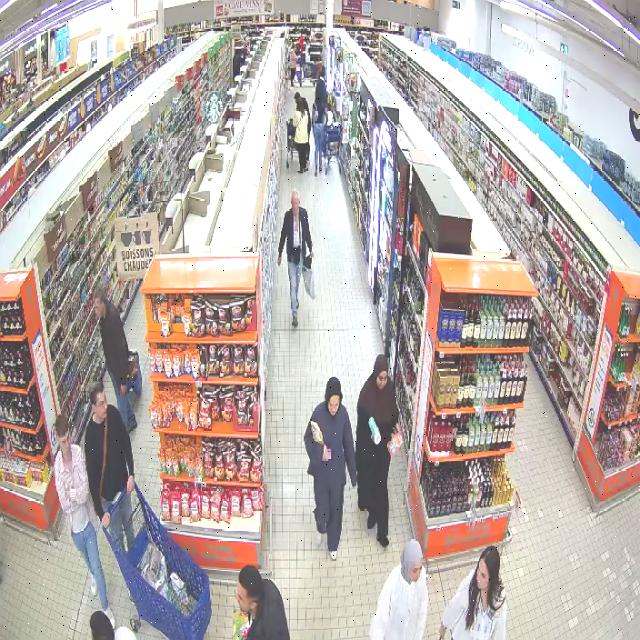article: (386, 434, 401, 457), (369, 416, 381, 444), (311, 421, 323, 444)
bags: (301, 255, 315, 299)
hands: (126, 476, 134, 494), (439, 622, 446, 639), (101, 513, 110, 526), (118, 385, 127, 395), (323, 446, 328, 461), (277, 257, 281, 265), (309, 251, 314, 257)
person: (54, 416, 115, 628), (304, 378, 356, 559), (356, 353, 398, 547), (85, 381, 134, 546), (94, 287, 140, 431), (439, 547, 506, 639), (370, 540, 427, 639), (277, 189, 313, 327), (237, 564, 289, 639)
